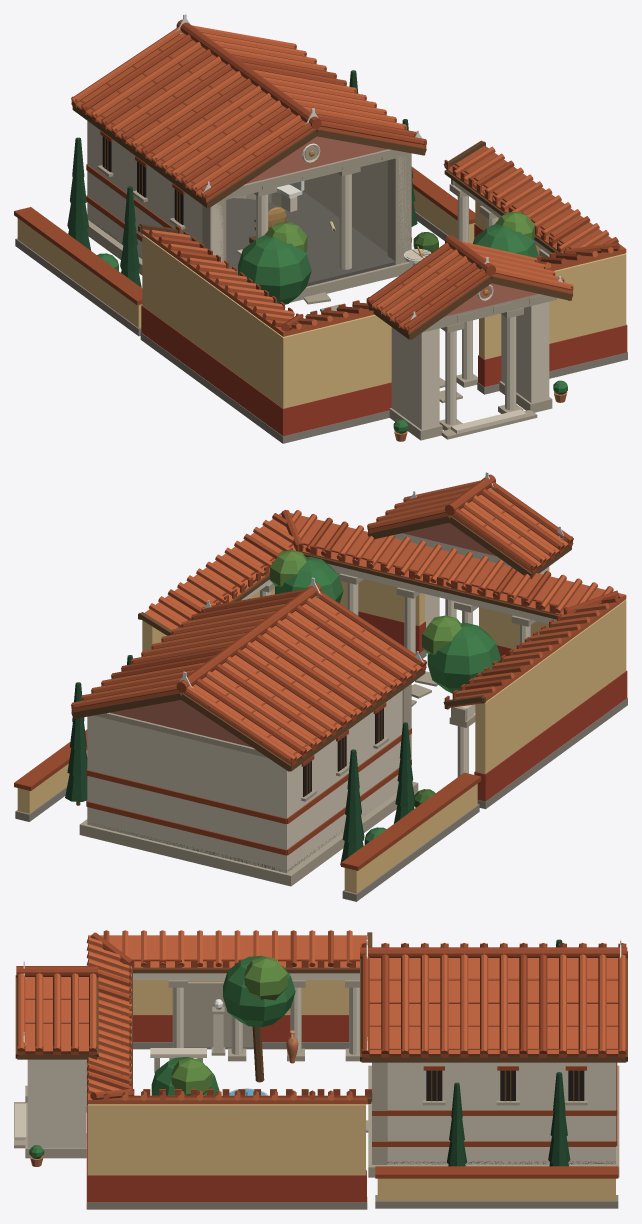
Rendered from Akademie.fbx.
3 renders of one model, top to bottom at view 1: azimuth 30°, elevation 25°; view 2: azimuth 150°, elevation 25°; view 3: azimuth 270°, elevation 25°, orthographic.
Parts seen in each view (by area): view 1: Akademie_0; view 2: Akademie_0; view 3: Akademie_0.
Boxes of the visible parts, x1,y1,x2,y2 form: Akademie_0: (14, 14, 627, 443); Akademie_0: (14, 472, 627, 901); Akademie_0: (14, 930, 627, 1209).
Bounding box in the file's own units: 3.47 × 1.82 × 5.4.
